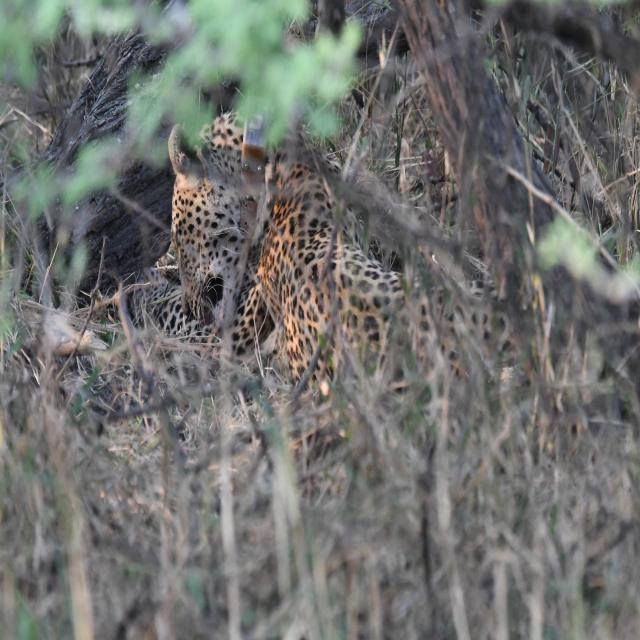Leopard: (148, 100, 514, 390)
